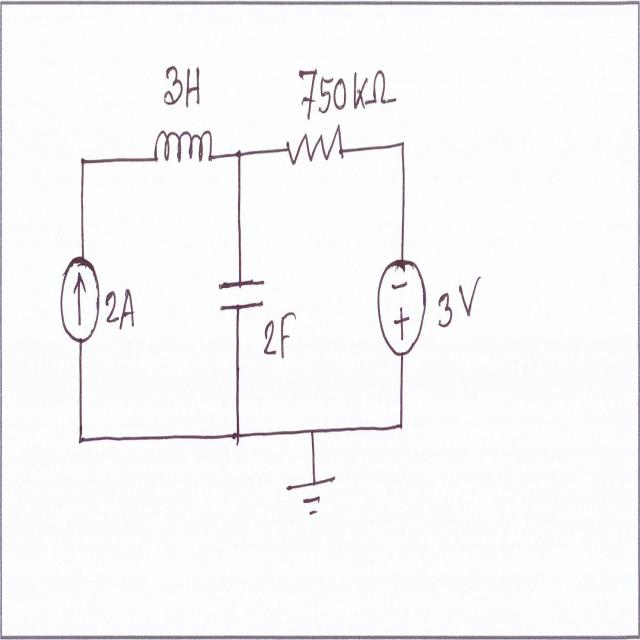capacitor: (217, 268, 267, 328)
current_source: (57, 251, 101, 344)
ground: (276, 476, 347, 524)
inductor: (149, 118, 217, 180)
resistor: (284, 118, 344, 176)
voltage_source: (376, 251, 429, 358)
